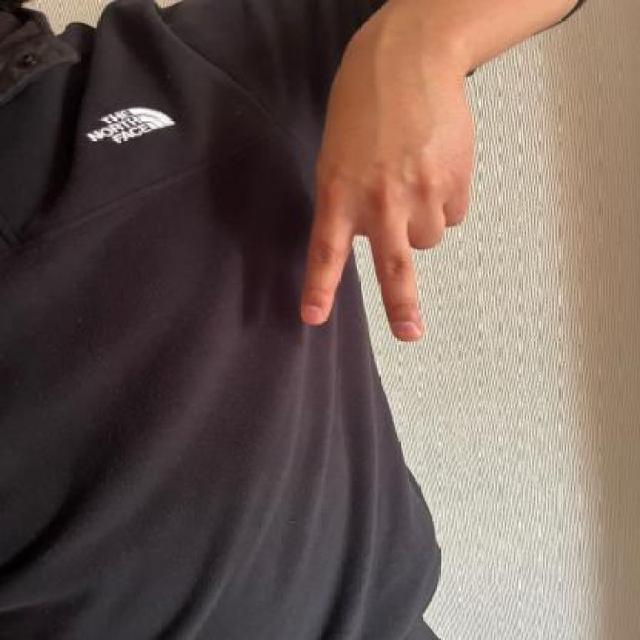N: (300, 62, 480, 342)
